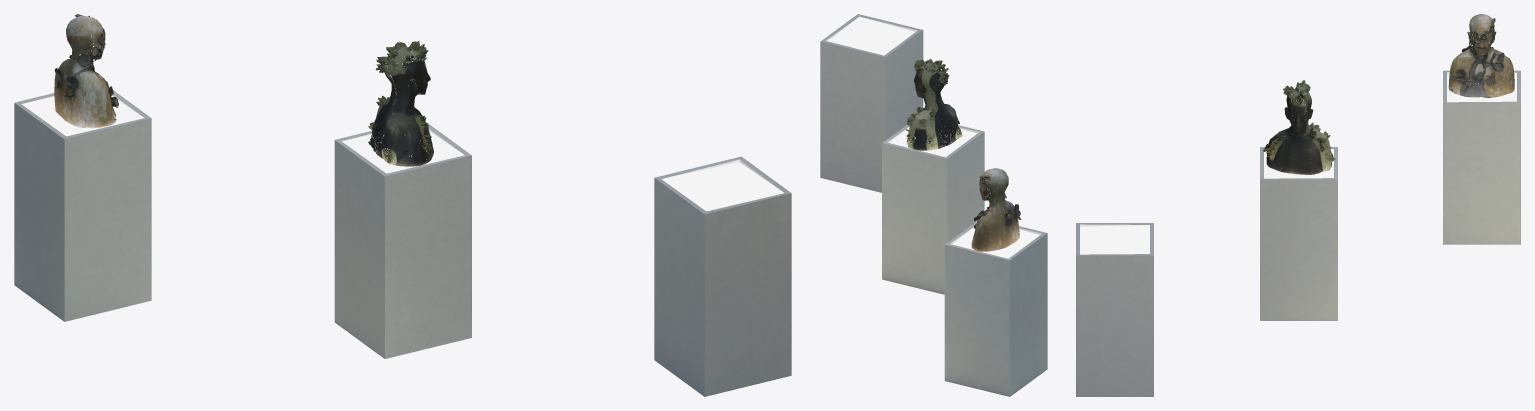
File: StatueFix_LOD2.glb
3 views of the same model, side by side, from view 1: azimuth 30°, elevation 25°; view 2: azimuth 150°, elevation 25°; view 3: azimuth 270°, elevation 25° (orthographic). The views are drawn at different scales.
Parts seen in each view (by area): view 1: Statue Place.001_LOD2; view 2: Statue Place.001_LOD2; view 3: Statue Place.001_LOD2.
Part boxes in pixels (x1,y1,x2,y2): Statue Place.001_LOD2: [14, 14, 791, 396]; Statue Place.001_LOD2: [820, 14, 1047, 396]; Statue Place.001_LOD2: [1076, 14, 1520, 396].
Size of the model in its own units: 3.38 by 1.87 by 3.42.
2 materials, 2 textured.
